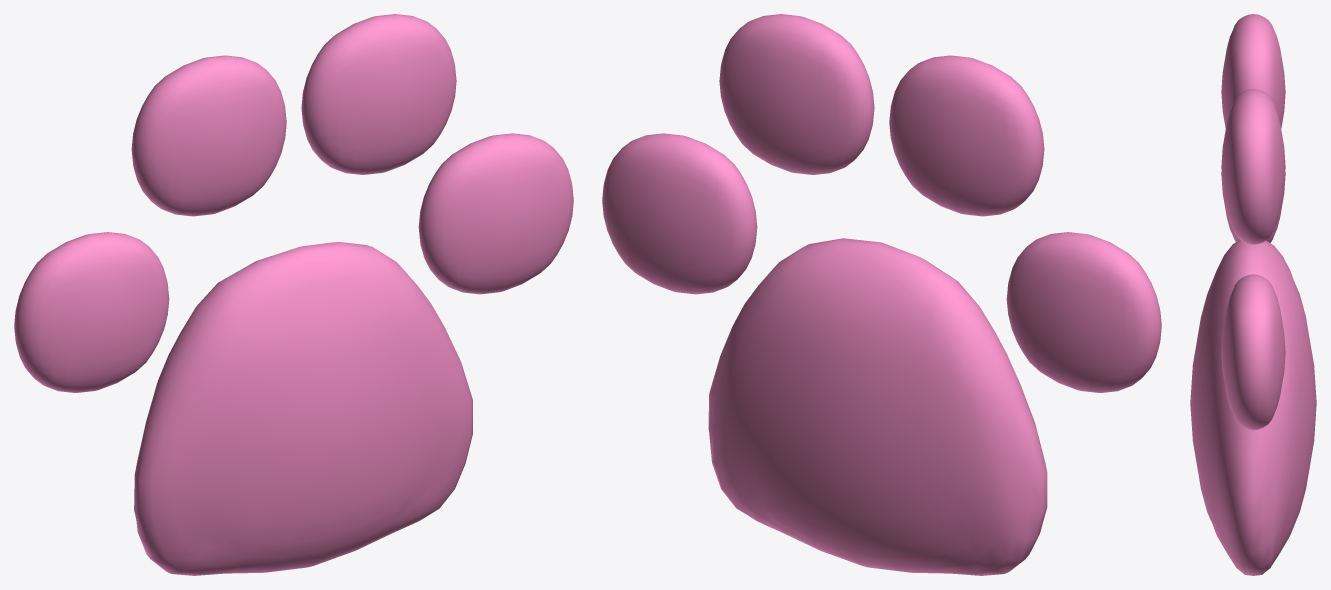
File: CatFootBullet.FBX
The picture shows the model from 3 angles, left to right: view 1: azimuth 30°, elevation 25°; view 2: azimuth 150°, elevation 25°; view 3: azimuth 270°, elevation 25°; orthographic projection. The views are drawn at different scales.
Visible parts, largest first — view 1: Box001; view 2: Box001; view 3: Box001.
Boxes of the visible parts, x1,y1,x2,y2 form: Box001: (14,14,573,575); Box001: (602,14,1161,575); Box001: (1190,14,1316,575).
Bounding box in the file's own units: 15.79 × 3.45 × 14.38.
